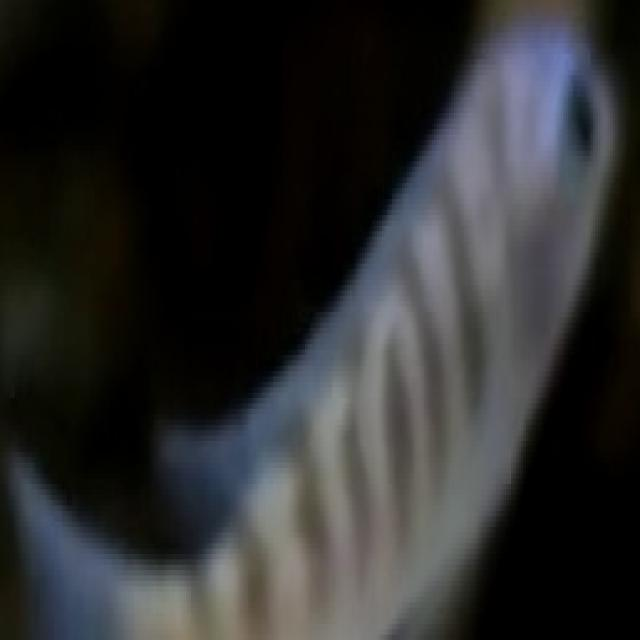fish: (0, 5, 638, 640)
